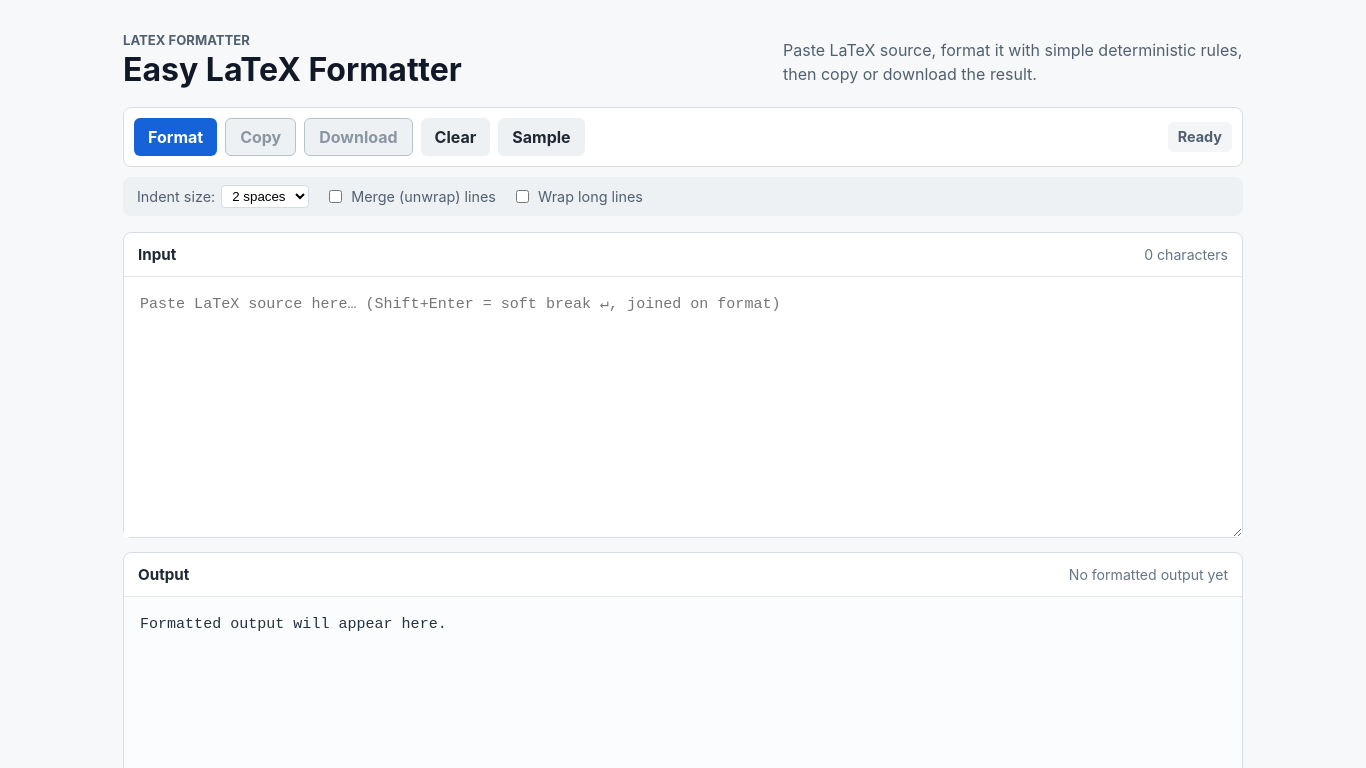
Test: App › shows diagnostics for empty input
The image size is (1366, 768).
What coordinates should you click on to do the following:
click the button "Format"
I would click on:
 (176, 137)
Its box is x1=134 y1=118 x2=217 y2=156.
(page scrolled)
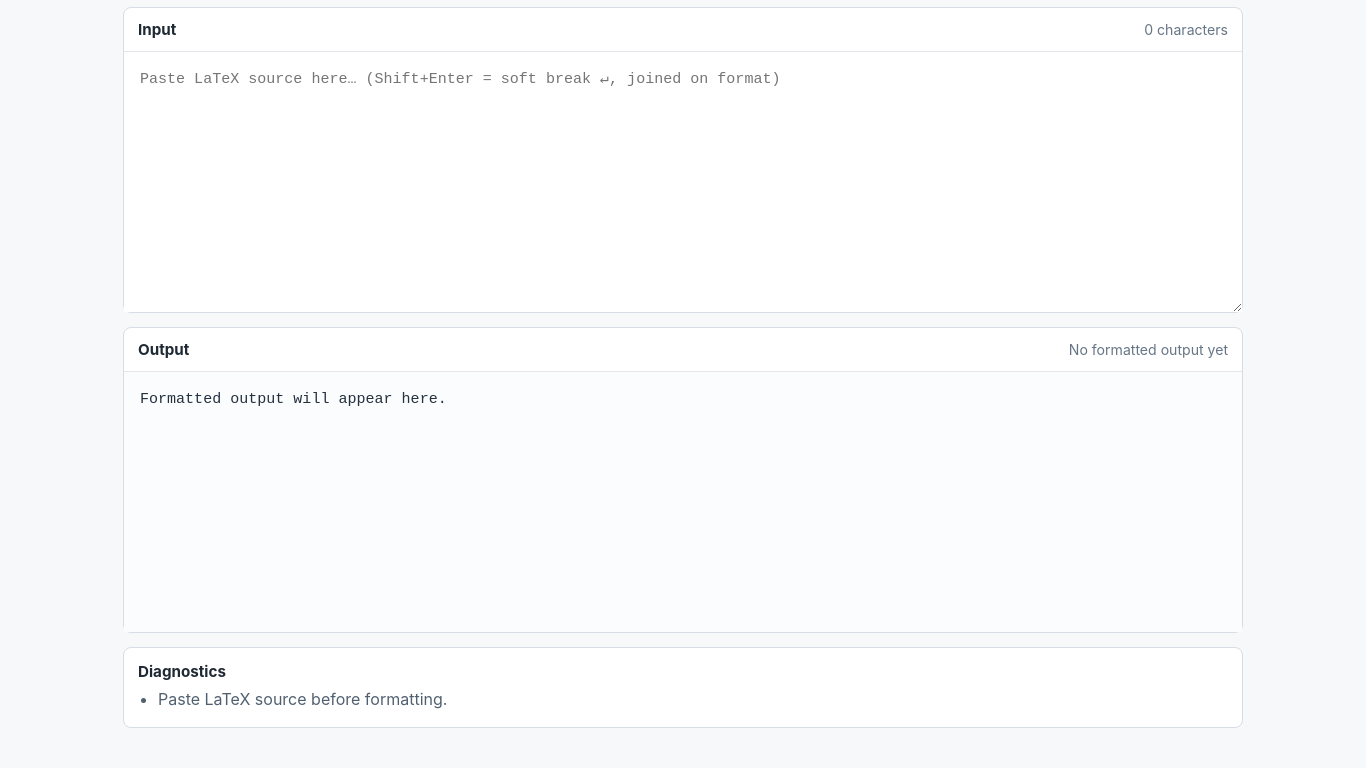
Now the list item "Paste LaTeX source before formatting." is shown, box x1=158 y1=689 x2=447 y2=709
